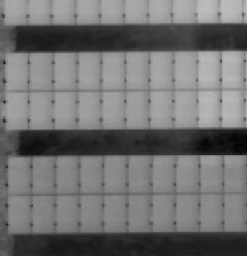solar: (217, 153, 247, 195), (217, 190, 247, 232), (197, 191, 227, 233), (172, 192, 202, 234), (148, 192, 178, 234), (125, 192, 155, 234), (100, 192, 130, 234), (76, 193, 106, 235), (53, 192, 83, 234), (28, 194, 58, 236), (4, 194, 34, 236), (6, 153, 35, 195), (28, 153, 57, 195), (52, 153, 81, 195), (77, 153, 106, 195), (101, 153, 130, 195), (125, 153, 154, 195), (149, 153, 178, 195), (172, 153, 201, 195), (197, 153, 226, 195), (99, 50, 127, 92), (123, 50, 151, 92), (148, 50, 176, 92), (171, 50, 199, 92), (194, 48, 222, 90), (219, 48, 247, 90), (219, 87, 247, 129), (195, 87, 223, 129), (171, 87, 199, 129), (148, 87, 176, 129), (123, 87, 151, 129), (99, 89, 127, 131), (75, 89, 103, 131), (52, 89, 80, 131), (27, 89, 55, 131), (2, 89, 30, 131), (27, 51, 55, 92), (1, 51, 29, 92), (51, 51, 79, 92), (76, 50, 104, 91)
